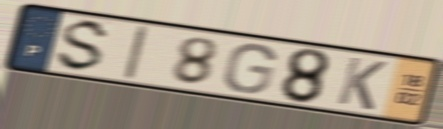8: (280, 47, 333, 106), (170, 35, 221, 86)
G: (220, 42, 279, 96)
I: (121, 23, 152, 82)
K: (333, 54, 390, 113)
S: (52, 18, 114, 74)
